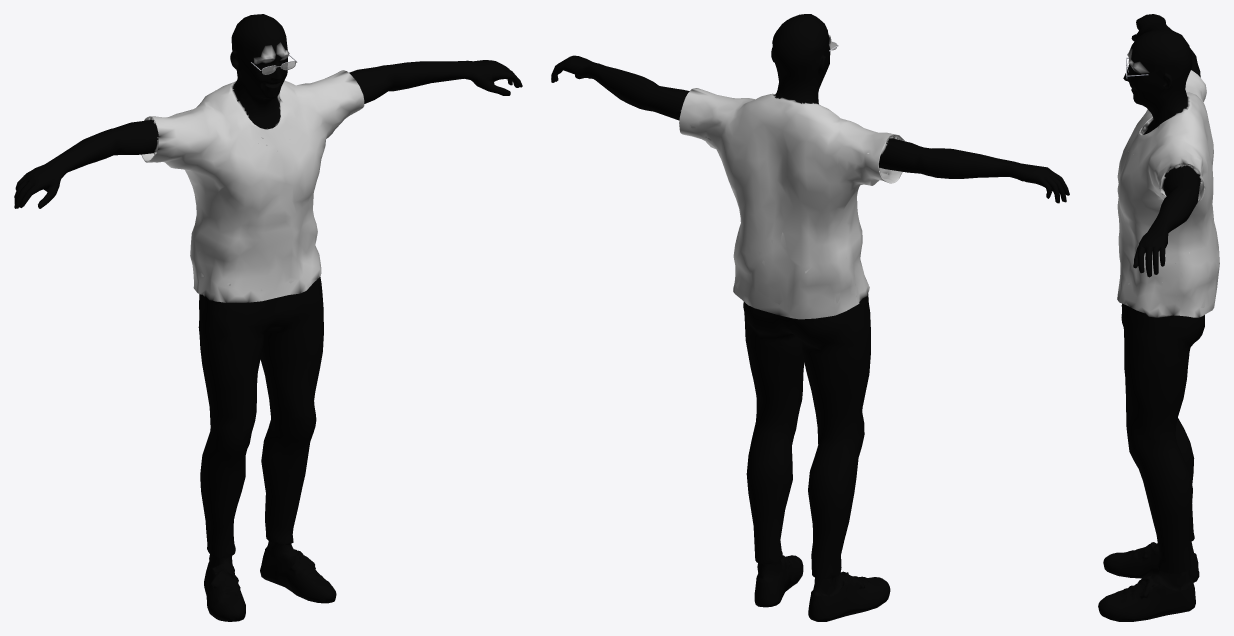
Rendered from carey.fbx.
The picture shows the model from 3 angles, left to right: view 1: azimuth 30°, elevation 25°; view 2: azimuth 150°, elevation 25°; view 3: azimuth 270°, elevation 25°; orthographic projection. The views are drawn at different scales.
Visible parts, largest first — view 1: remesh_8_combined_Remeshed; view 2: remesh_8_combined_Remeshed; view 3: remesh_8_combined_Remeshed.
Boxes of the visible parts, x1=… form: remesh_8_combined_Remeshed: x1=14, y1=14, x2=522, y2=621; remesh_8_combined_Remeshed: x1=551, y1=14, x2=1069, y2=621; remesh_8_combined_Remeshed: x1=1098, y1=14, x2=1219, y2=621.
Size of the model in its own units: 167 by 182 by 35.48.
